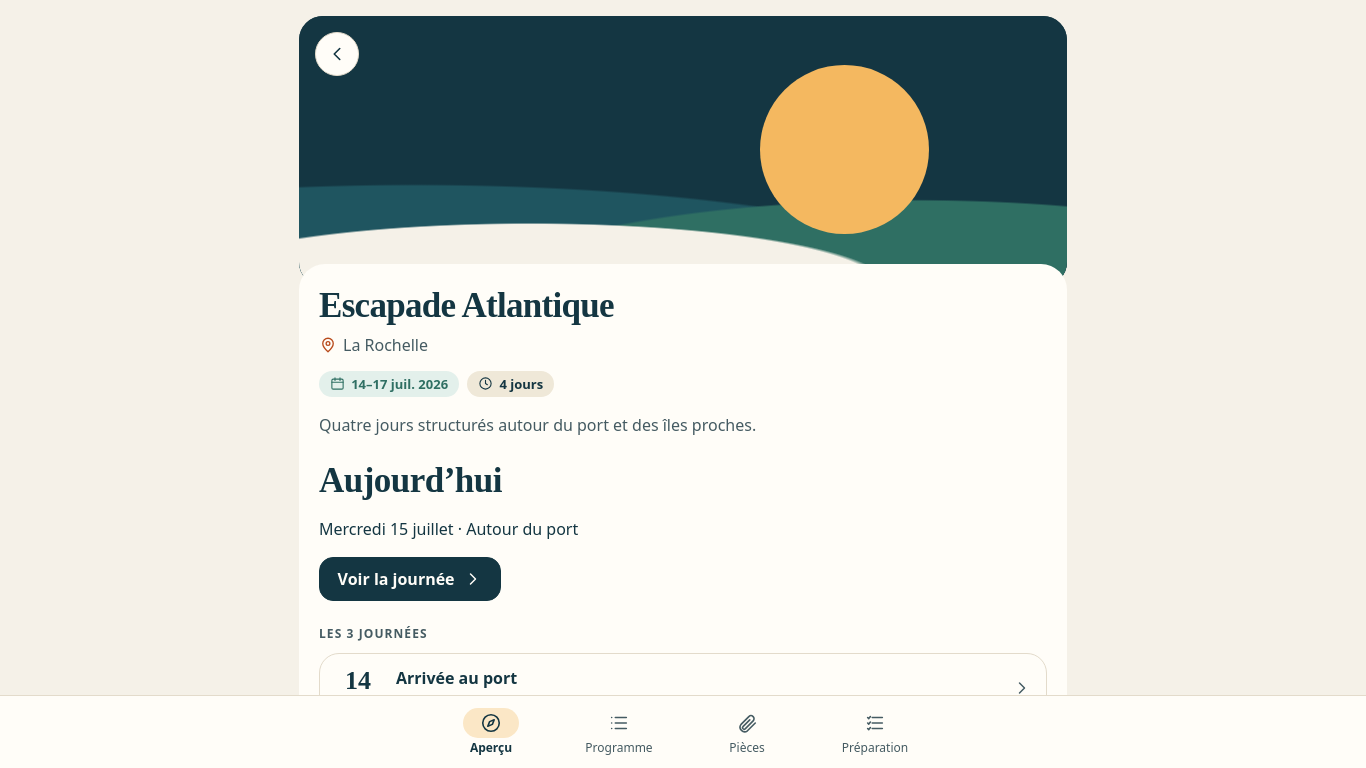
Test: associations sans répétition › n’affiche les réservations à confirmer que dans Préparation
expect the heading "À confirmer" is not shown: met
Click the button "Préparation".
click(875, 732)  # box [811, 704, 939, 760]
(page scrolled)
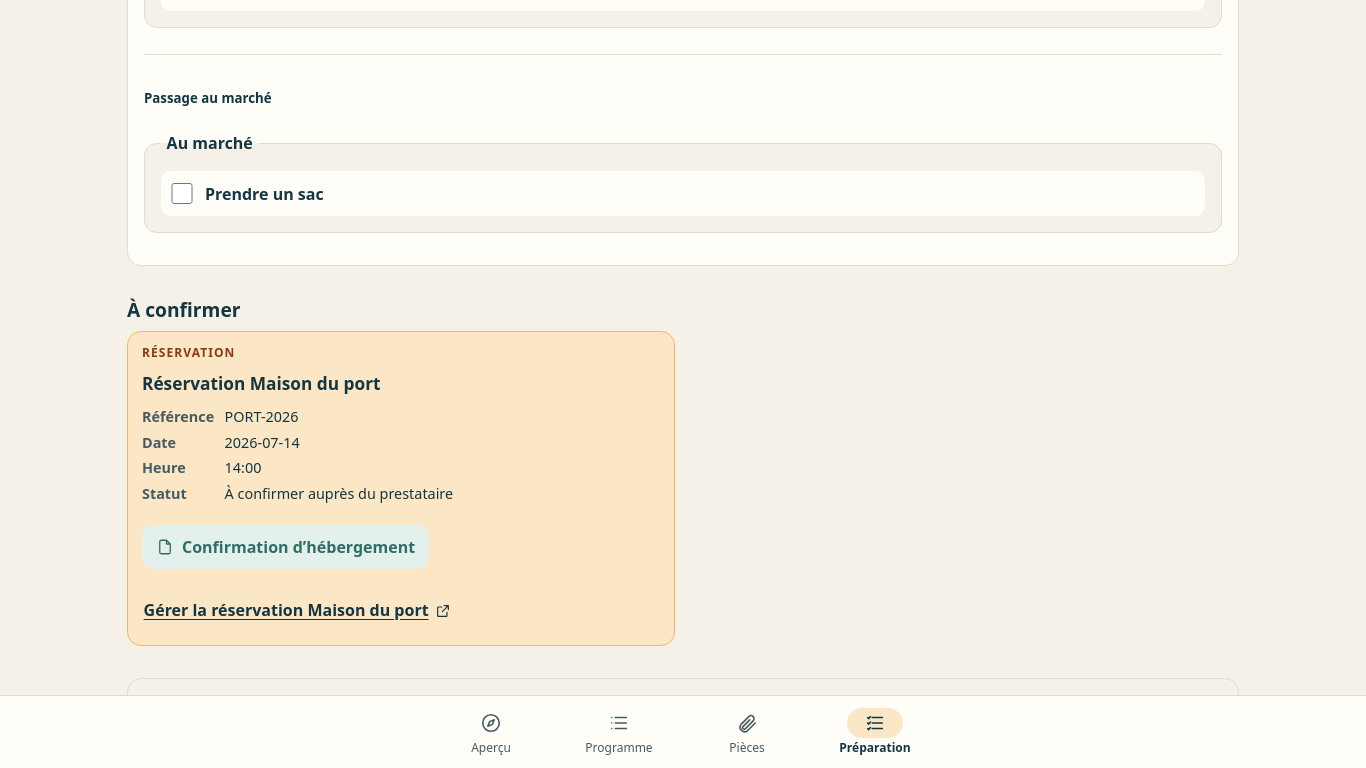
expect the heading "À confirmer" is shown: met, box [127, 296, 240, 323]
expect the heading "Réservation Maison du port" is shown: met, box [142, 372, 380, 395]
